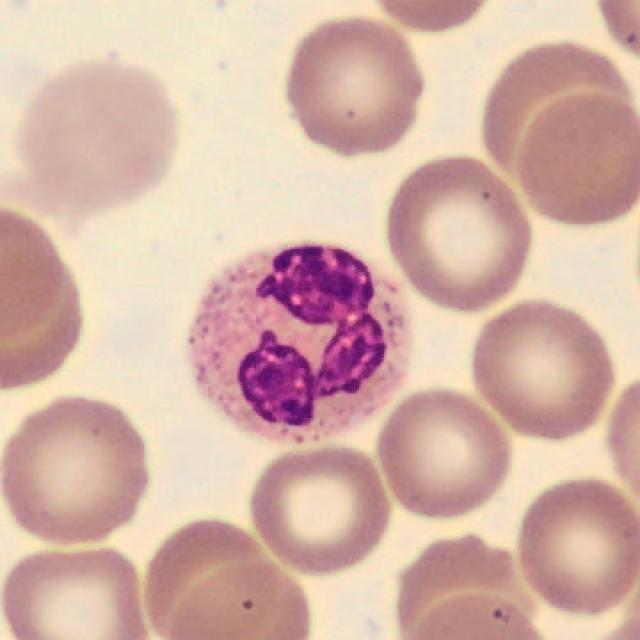Neutrofilo segmentado: (188, 245, 405, 439)
